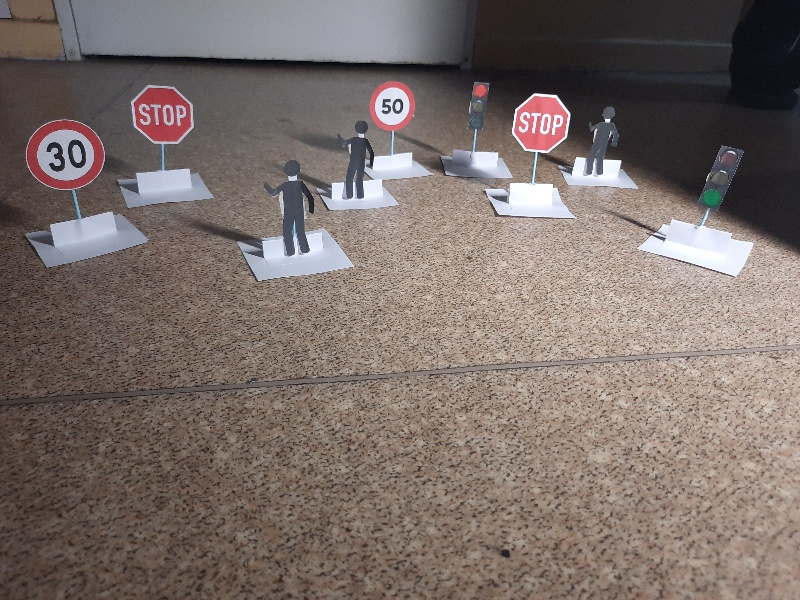Green: (700, 147, 740, 212)
Limit 30: (27, 119, 102, 188)
Limit 50: (371, 82, 414, 129)
Person: (262, 160, 316, 254), (339, 122, 373, 194), (585, 106, 618, 178)
Red: (464, 83, 490, 131)
Stop: (515, 92, 571, 153), (133, 85, 190, 142)
